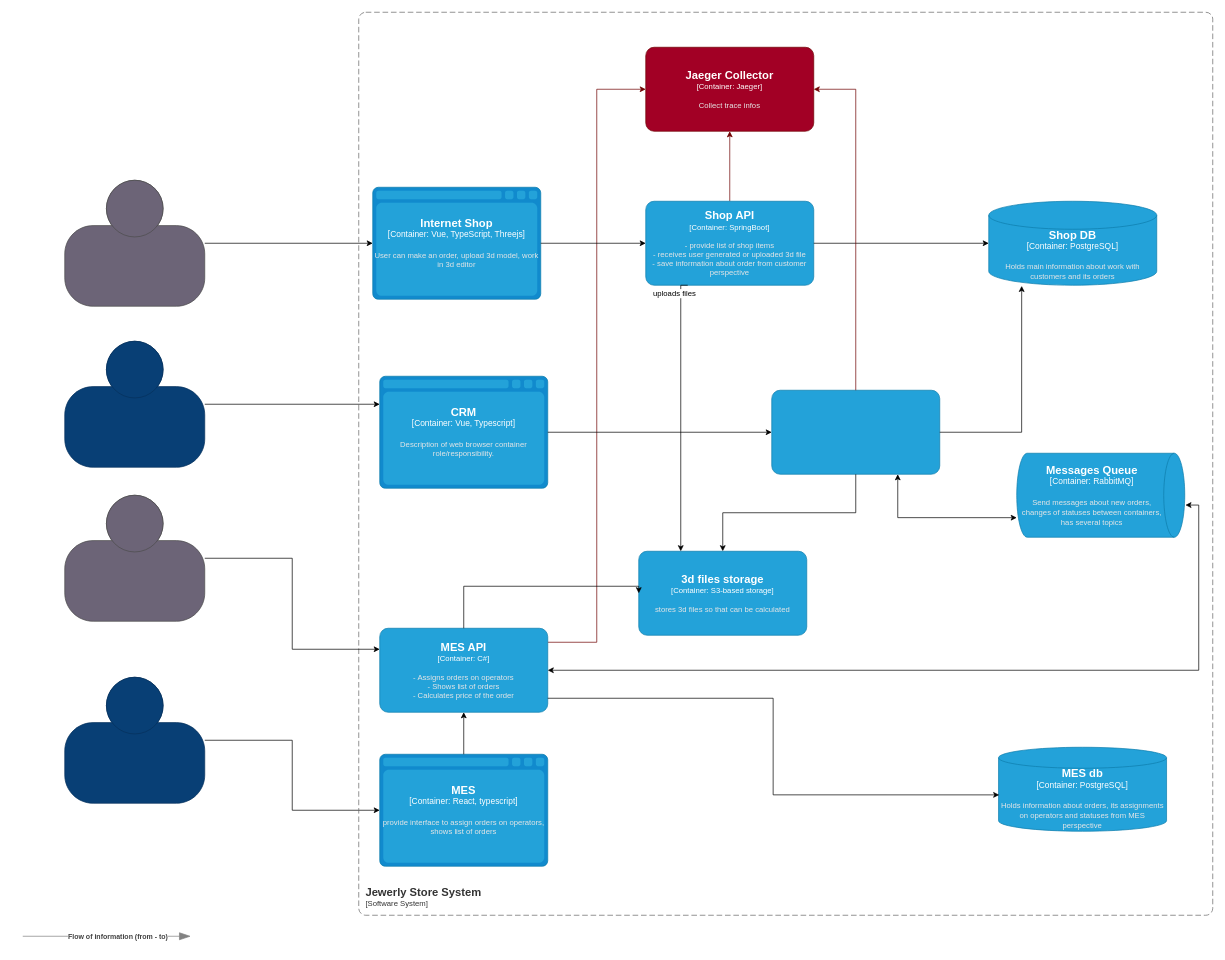
Image size: 1225x960. Some labels were removed from this diagram. The shapes that lost their labels are listed below. From the top down, each one's centre as x and y in pixels, then its label:
At (x=134, y=243): "Customer [Person] Description of external person.".
At (x=134, y=404): "Seller [Person] Operates with order, confirms manufacturing for the user".
At (x=855, y=432): "CRM API [Container: SpringBoot] Description of container role/responsibility.".
At (x=134, y=558): "API user [Person] Description of external person.".
At (x=134, y=740): "Operator [Person] Takes order in work, manufactures jewerly".
